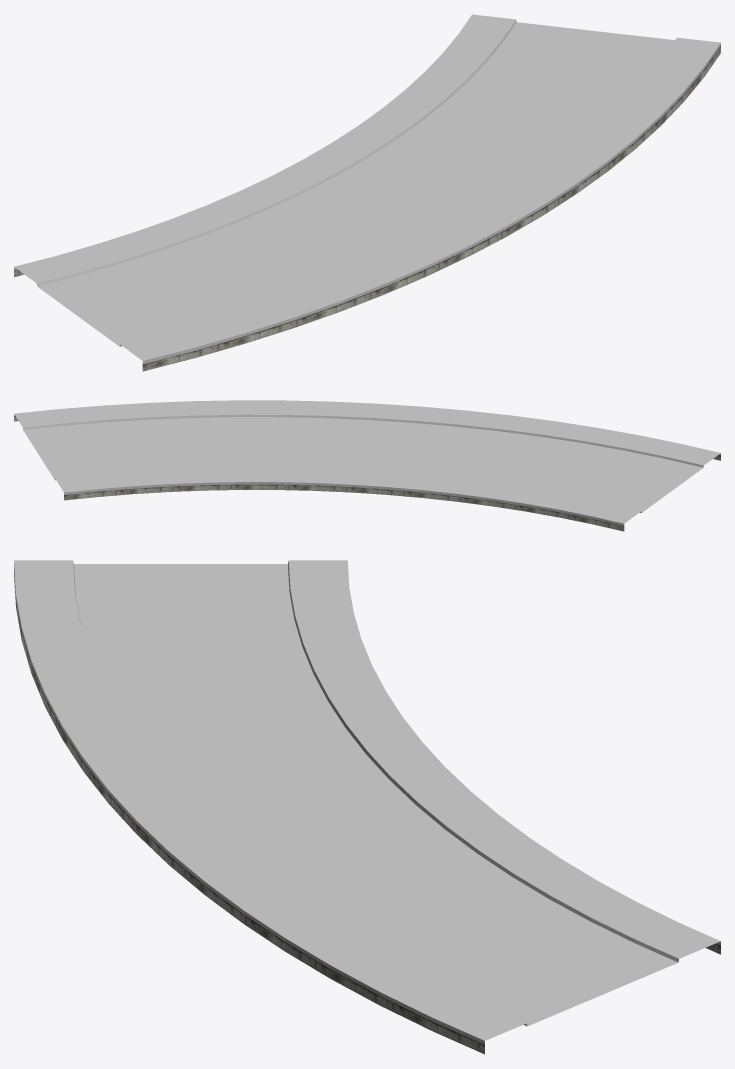
Rendered from Road_2_lines_45.FBX.
The picture shows the model from 3 angles, top to bottom: view 1: azimuth 30°, elevation 25°; view 2: azimuth 150°, elevation 25°; view 3: azimuth 270°, elevation 25°; orthographic projection. The views are drawn at different scales.
Visible parts, largest first — view 1: Road_2_lines_45; view 2: Road_2_lines_45; view 3: Road_2_lines_45.
Boxes of the visible parts, x1=… form: Road_2_lines_45: x1=14, y1=14, x2=720, y2=371; Road_2_lines_45: x1=14, y1=400, x2=720, y2=531; Road_2_lines_45: x1=14, y1=560, x2=720, y2=1054.
Size of the model in its own units: 3487 by 45.85 by 2168.
